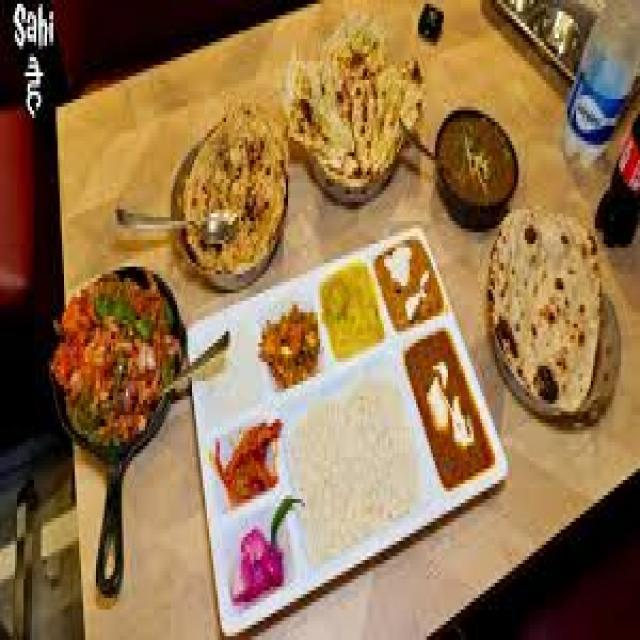roti: (485, 194, 608, 419)
sweet: (239, 288, 334, 408)
veg-fry: (51, 262, 179, 455)
